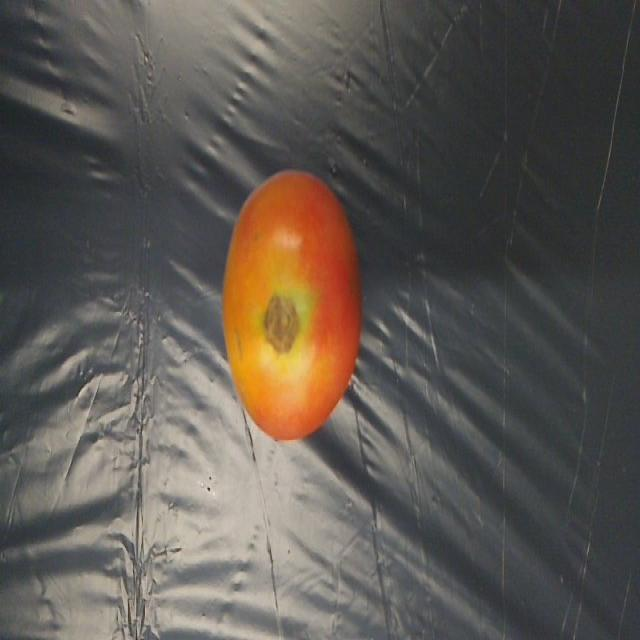sari: (213, 146, 360, 466)
